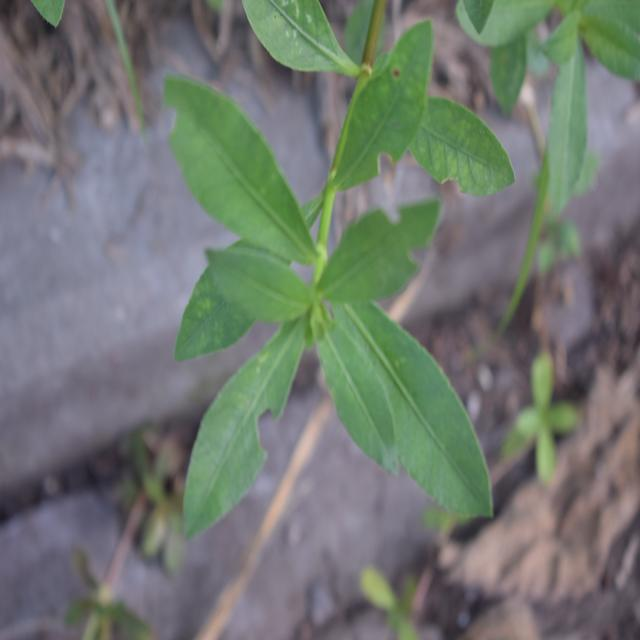Alligatorweed: (173, 29, 498, 533)
